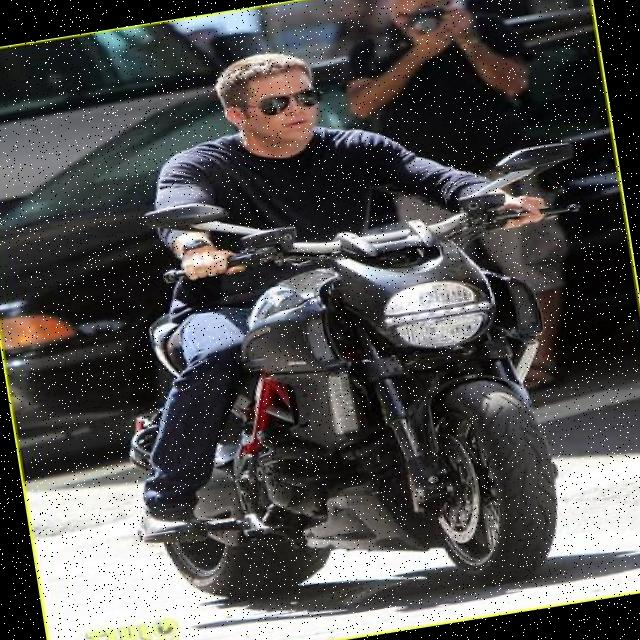No helmet: (206, 40, 327, 157)
